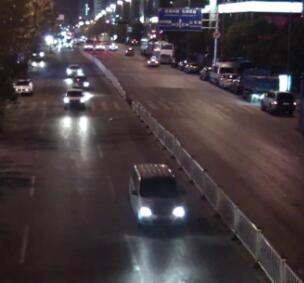bus: (146, 37, 173, 66), (138, 36, 151, 54)
car: (126, 161, 189, 231), (241, 65, 280, 103), (260, 89, 297, 116), (61, 89, 89, 109), (210, 62, 235, 84), (11, 76, 35, 95), (219, 71, 239, 89), (70, 72, 89, 89), (65, 62, 84, 77), (30, 45, 47, 61), (144, 55, 160, 67), (198, 65, 210, 80), (182, 60, 197, 72), (123, 45, 137, 57), (83, 40, 93, 51), (94, 42, 106, 51), (176, 59, 185, 70), (108, 42, 119, 50)
